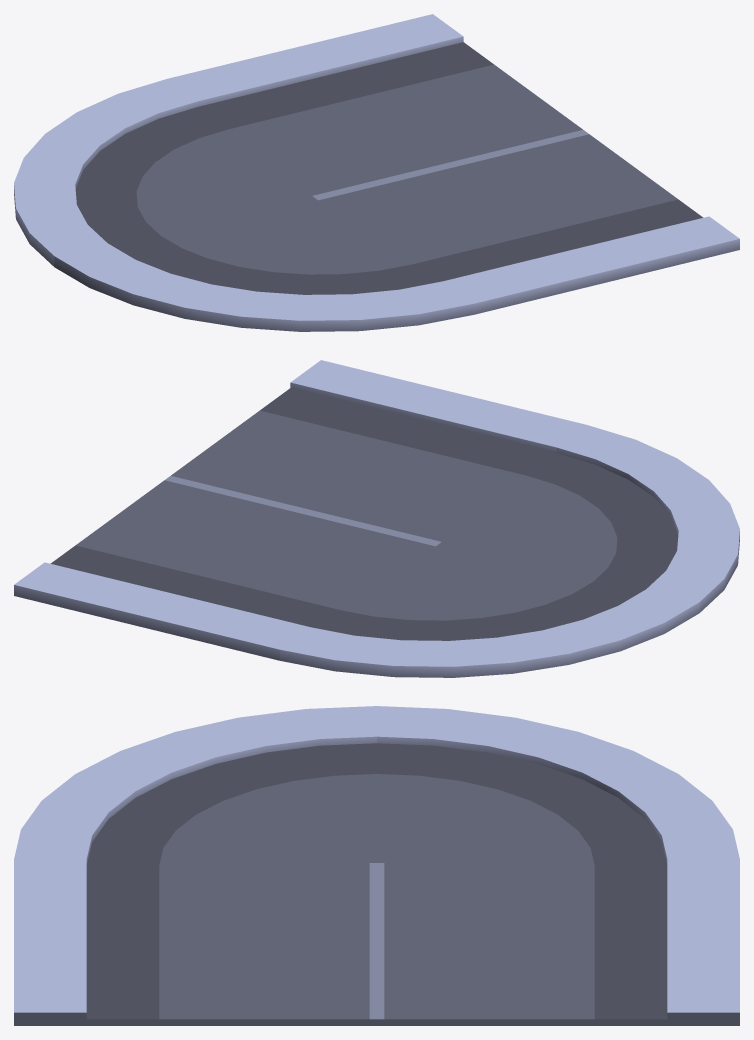
The picture shows the model from 3 angles, top to bottom: view 1: azimuth 30°, elevation 25°; view 2: azimuth 150°, elevation 25°; view 3: azimuth 270°, elevation 25°; orthographic projection. The views are drawn at different scales.
Parts seen in each view (by area): view 1: road-end-round; view 2: road-end-round; view 3: road-end-round.
Part boxes in pixels (x1=…): road-end-round: x1=14, y1=14, x2=739, y2=331; road-end-round: x1=14, y1=360, x2=739, y2=677; road-end-round: x1=14, y1=706, x2=739, y2=1025.
Size of the model in its own units: 10.68 by 0.2136 by 10.68.
1 material, 1 textured.
